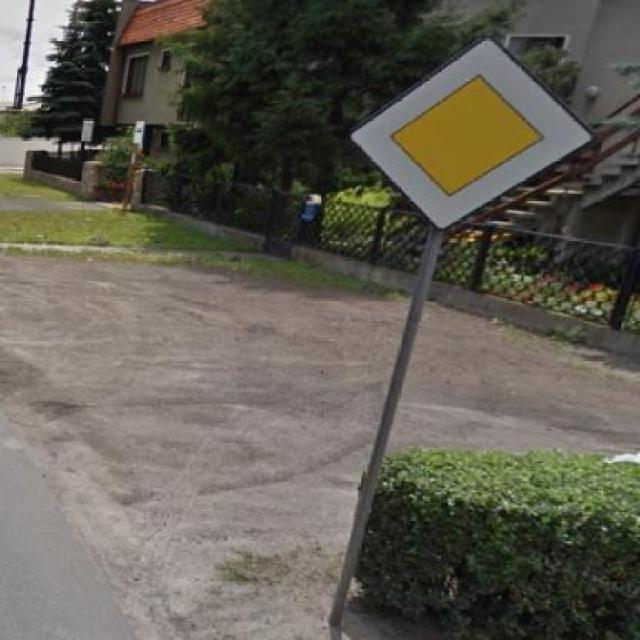Droga z pierwszenstwem: (347, 32, 596, 232)
